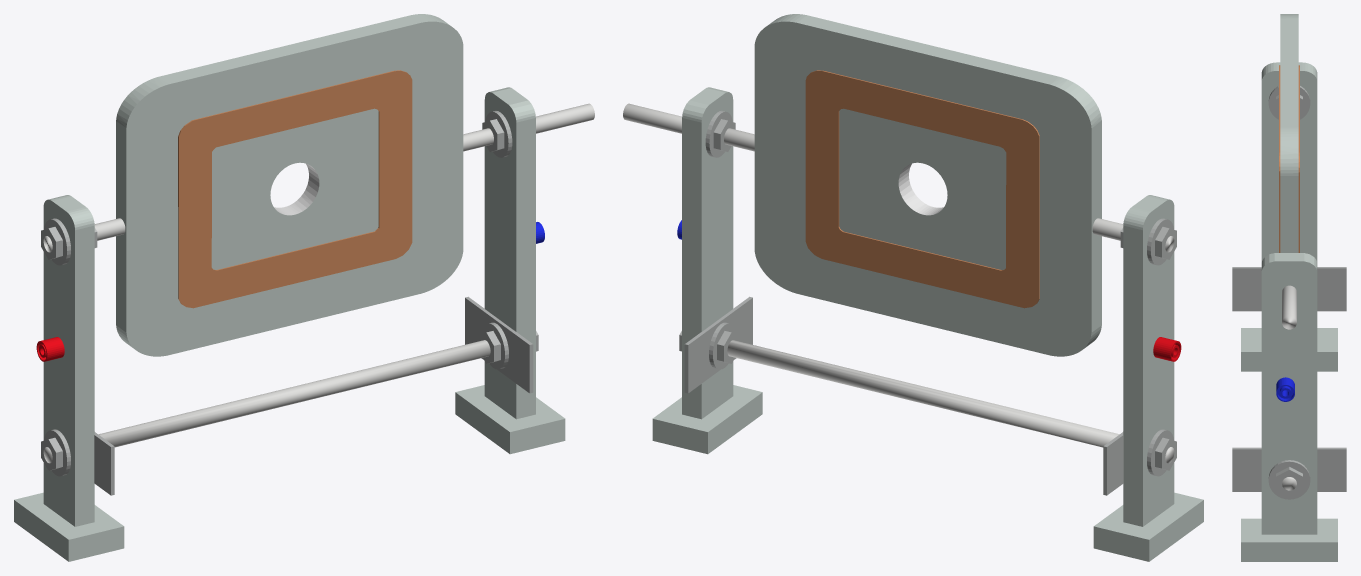
Rendered from coil.glb.
3 renders of one model, left to right at view 1: azimuth 30°, elevation 25°; view 2: azimuth 150°, elevation 25°; view 3: azimuth 270°, elevation 25°, orthographic. The views are drawn at different scales.
Visible parts, largest first — view 1: frame, stand, axis, handle; view 2: frame, stand, axis, handle; view 3: stand, frame, handle.
Part boxes in pixels (bbox=[...]): frame: bbox=[116, 14, 463, 356]; stand: bbox=[14, 87, 565, 561]; axis: bbox=[43, 128, 493, 252]; handle: bbox=[536, 103, 594, 133]; frame: bbox=[754, 14, 1101, 356]; stand: bbox=[652, 87, 1203, 561]; axis: bbox=[724, 128, 1174, 252]; handle: bbox=[623, 103, 681, 133]; stand: bbox=[1232, 62, 1346, 561]; frame: bbox=[1279, 14, 1299, 252]; handle: bbox=[1282, 285, 1296, 329].
Bounding box in the file's own units: 62.59 × 46.98 × 12.79.
